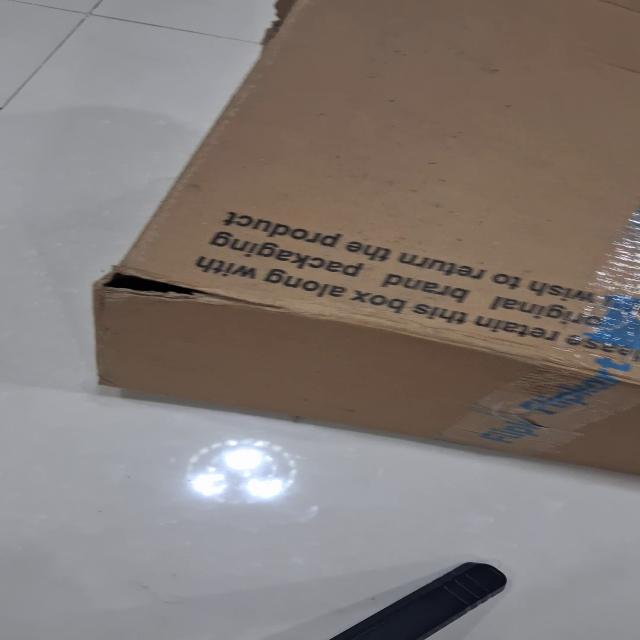paper: (89, 0, 639, 478)
